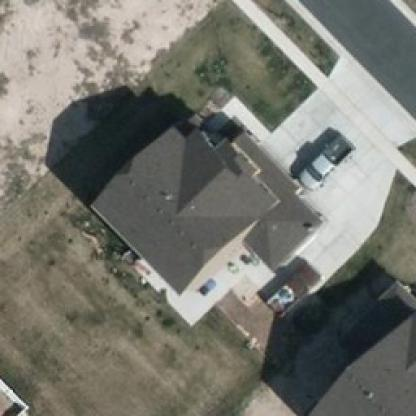car: (296, 126, 351, 188), (263, 262, 318, 316)
